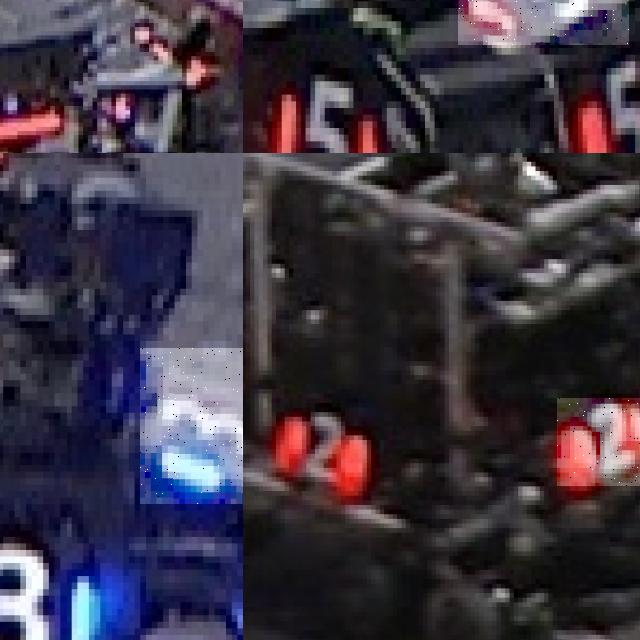B3: (140, 347, 243, 504), (0, 530, 106, 640)
R2: (272, 408, 371, 491), (557, 398, 640, 486)
R5: (260, 54, 379, 153), (561, 44, 640, 153), (458, 0, 630, 44)
